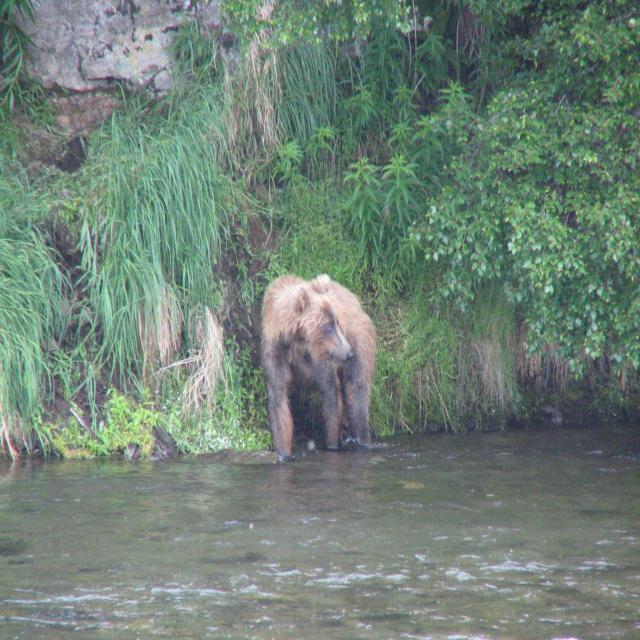bear face: (261, 270, 376, 454)
